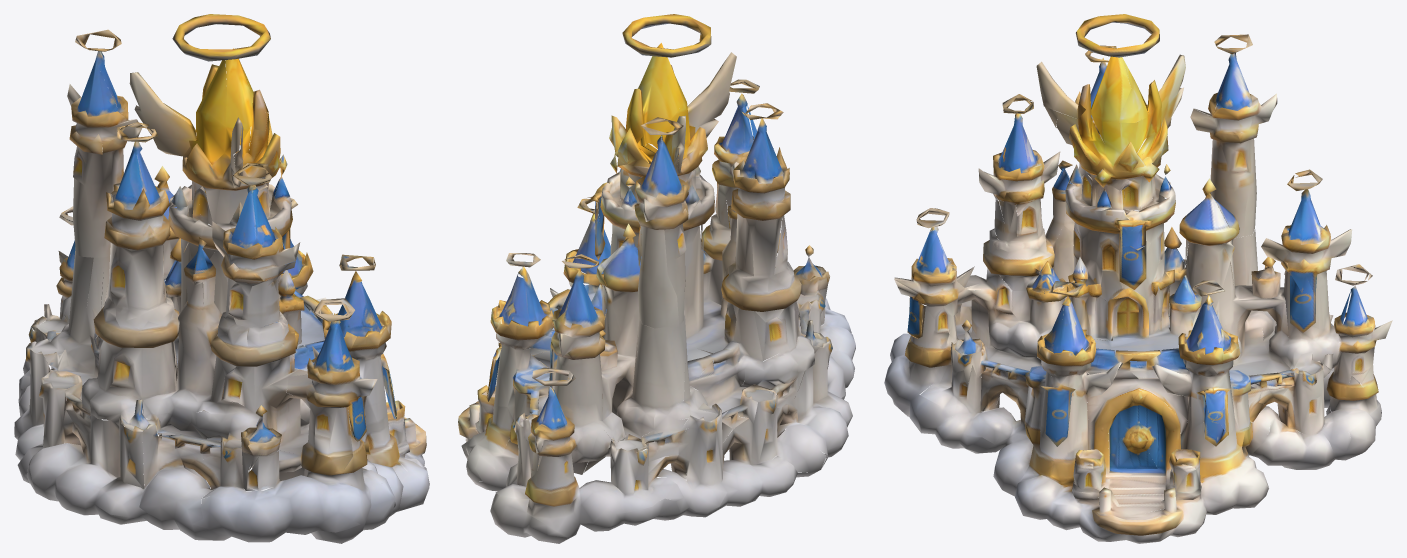
File: Town_Halo_Castle_10k_ring_vivid.glb
3 views of the same model, side by side, from view 1: azimuth 30°, elevation 25°; view 2: azimuth 150°, elevation 25°; view 3: azimuth 270°, elevation 25° (orthographic). The views are drawn at different scales.
Parts seen in each view (by area): view 1: tripo_node_be69fc87-4ef6-47e3-bb05-a239e8343abf; view 2: tripo_node_be69fc87-4ef6-47e3-bb05-a239e8343abf; view 3: tripo_node_be69fc87-4ef6-47e3-bb05-a239e8343abf.
Part boxes in pixels (x1,y1,x2,y2): tripo_node_be69fc87-4ef6-47e3-bb05-a239e8343abf: (14,14,429,543); tripo_node_be69fc87-4ef6-47e3-bb05-a239e8343abf: (458,14,855,543); tripo_node_be69fc87-4ef6-47e3-bb05-a239e8343abf: (884,14,1392,543).
Size of the model in its own units: 0.7911 by 0.9387 by 1.
Materials: 1 (1 with a texture image).
